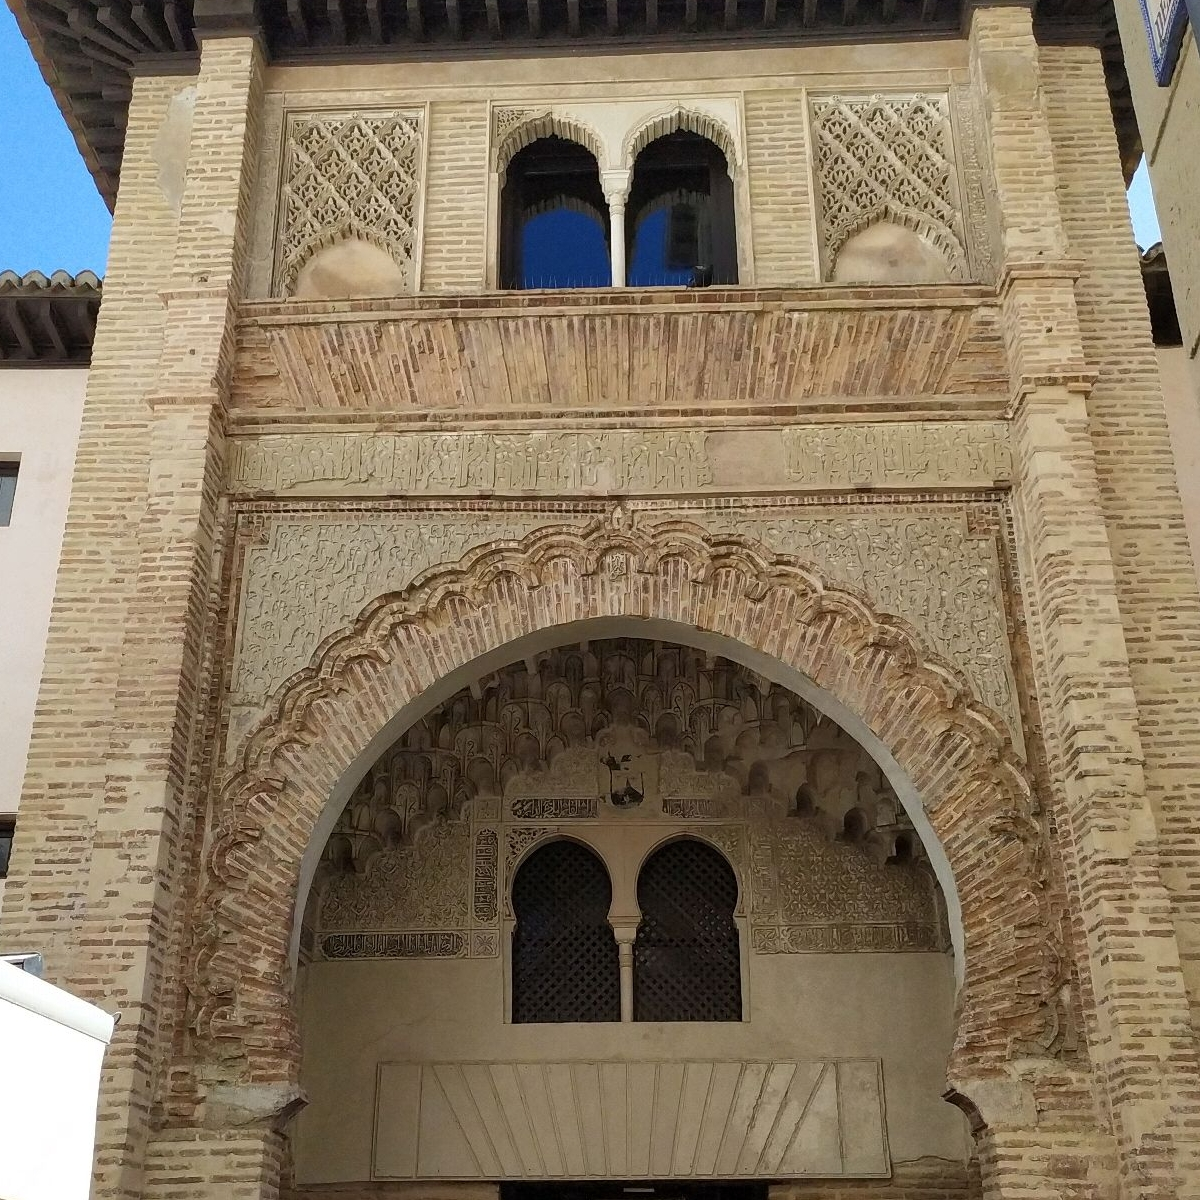arco-herradura: (230, 595, 1001, 1149), (499, 824, 623, 937), (626, 822, 751, 933)
dintel-adovelado: (243, 301, 1003, 418), (418, 1051, 840, 1185)
